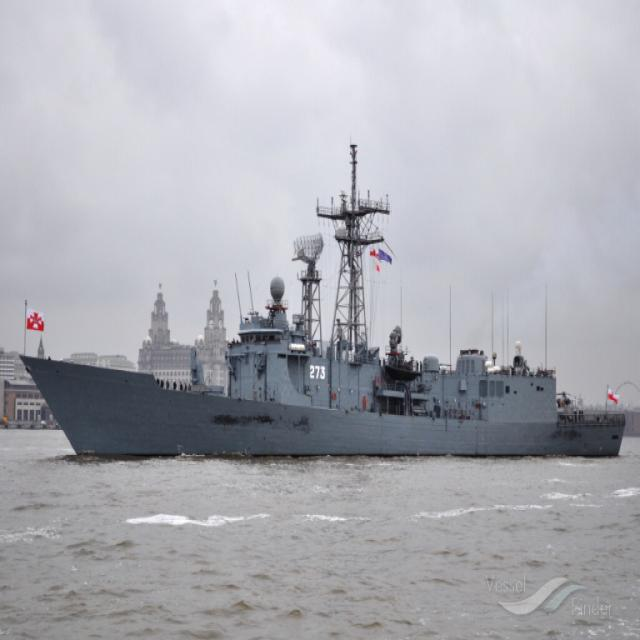OCR: (310, 364, 330, 384)
